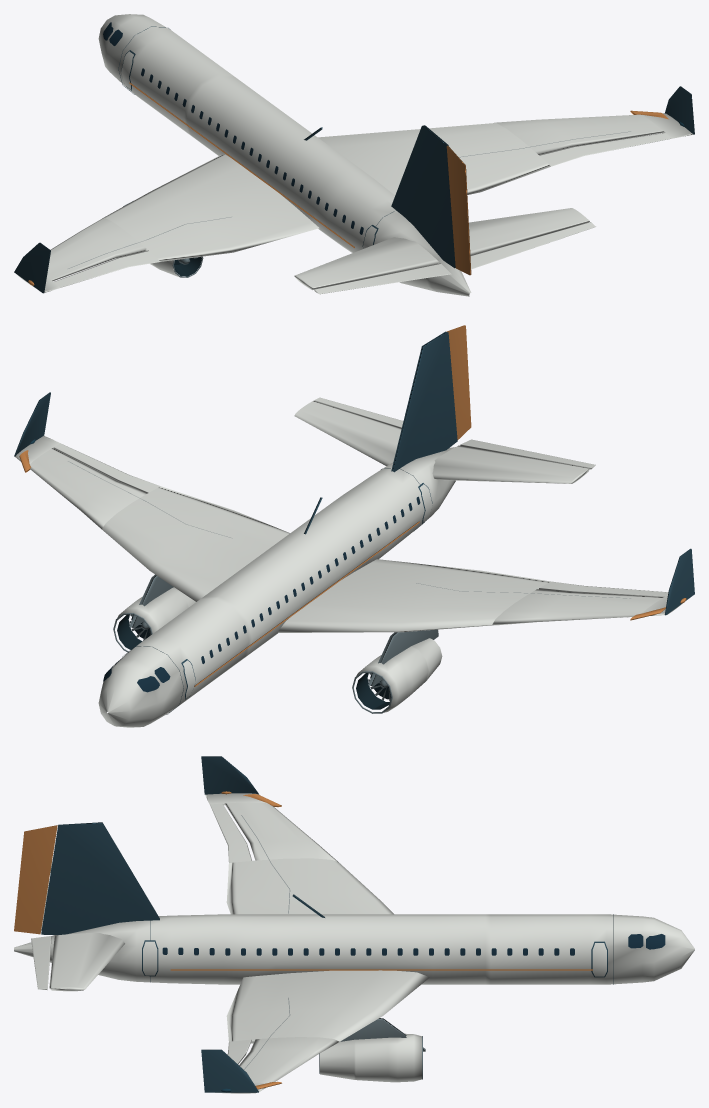
Rendered from player-stratoliner-mobile-v3.glb.
The picture shows the model from 3 angles, top to bottom: view 1: azimuth 30°, elevation 25°; view 2: azimuth 150°, elevation 25°; view 3: azimuth 270°, elevation 25°; orthographic projection. The views are drawn at different scales.
Visible parts, largest first — view 1: hull, trim, rudder, aileron-right, elevator-right, elevator-left, aileron-left, cabin, accent; view 2: hull, trim, metal, rudder, dark, cabin, aileron-right, aileron-left, elevator-left, accent, elevator-right; view 3: hull, trim, rudder, cabin, accent, aileron-left, elevator-right, metal.
Boxes of the visible parts, left/top/right/bottom form: hull: left=16, top=14, right=692, bottom=296; trim: left=14, top=26, right=694, bottom=293; rudder: left=446, top=145, right=471, bottom=275; aileron-right: left=539, top=132, right=671, bottom=166; elevator-right: left=470, top=222, right=595, bottom=269; elevator-left: left=314, top=263, right=451, bottom=294; aileron-left: left=54, top=250, right=160, bottom=287; cabin: left=103, top=22, right=363, bottom=234; accent: left=28, top=82, right=668, bottom=285; hull: left=15, top=400, right=687, bottom=727; trim: left=14, top=331, right=694, bottom=714; metal: left=113, top=574, right=438, bottom=713; rudder: left=446, top=325, right=471, bottom=439; dark: left=117, top=614, right=391, bottom=709; cabin: left=103, top=496, right=420, bottom=692; aileron-right: left=53, top=443, right=160, bottom=493; aileron-left: left=539, top=581, right=668, bottom=596; elevator-left: left=460, top=439, right=595, bottom=469; accent: left=19, top=450, right=686, bottom=686; elevator-right: left=314, top=397, right=403, bottom=428; hull: left=14, top=793, right=694, bottom=1093; trim: left=41, top=756, right=613, bottom=1092; rudder: left=14, top=825, right=57, bottom=934; cabin: left=162, top=934, right=665, bottom=955; accent: left=170, top=791, right=592, bottom=1089; aileron-left: left=209, top=803, right=251, bottom=862; elevator-right: left=31, top=936, right=51, bottom=989; metal: left=319, top=1018, right=425, bottom=1079.
Size of the model in its own units: 59.46 by 18.7 by 57.
